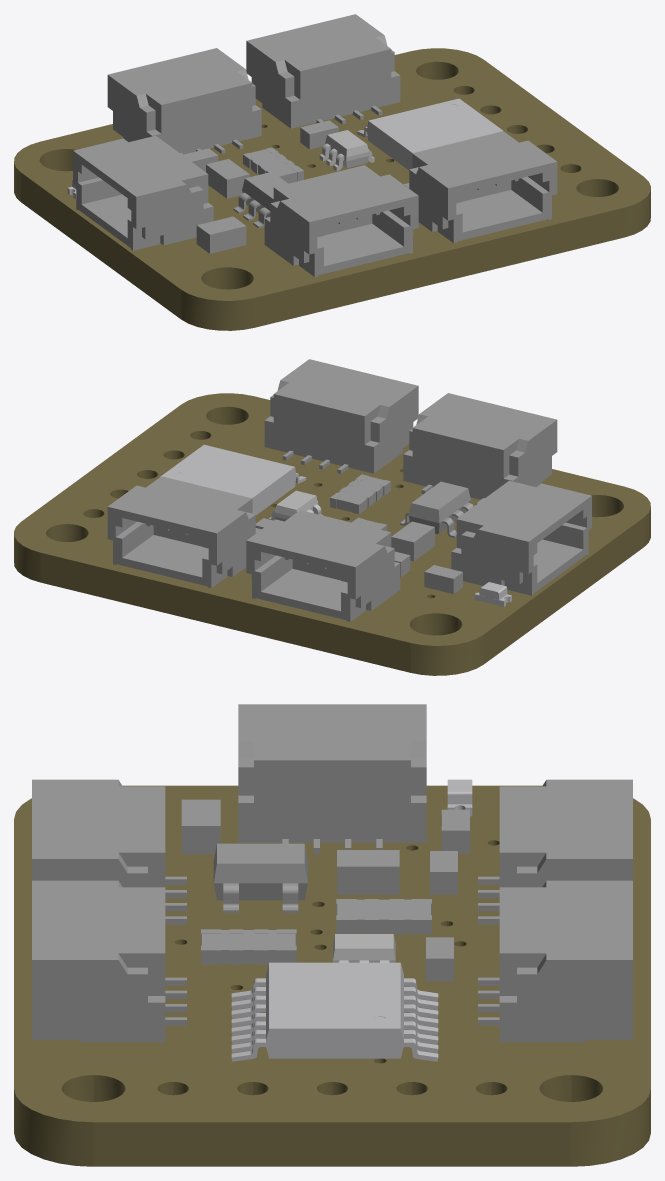
The model's file is ada-5664.glb.
3 renders of one model, top to bottom at view 1: azimuth 30°, elevation 25°; view 2: azimuth 150°, elevation 25°; view 3: azimuth 270°, elevation 25°, orthographic. The views are drawn at different scales.
Visible parts, largest first — view 1: 0.3333333333333333_0.3333333333333333_0.3333333333333333_0, 0.16666666666666666_0.16666666666666666_0.08333333333333333_, 0.5833333333333334_0.5833333333333334_0.5833333333333334_0.8, 0.5_0.5_0.5_0.85; view 2: 0.3333333333333333_0.3333333333333333_0.3333333333333333_0, 0.16666666666666666_0.16666666666666666_0.08333333333333333_, 0.5833333333333334_0.5833333333333334_0.5833333333333334_0.8, 0.5_0.5_0.5_0.85; view 3: 0.3333333333333333_0.3333333333333333_0.3333333333333333_0, 0.16666666666666666_0.16666666666666666_0.08333333333333333_, 0.5833333333333334_0.5833333333333334_0.5833333333333334_0.8, 0.5_0.5_0.5_0.85.
Part boxes in pixels (x1,y1,x2,y2): 0.3333333333333333_0.3333333333333333_0.3333333333333333_0: (73,14,557,276); 0.16666666666666666_0.16666666666666666_0.08333333333333333_: (14,48,650,330); 0.5833333333333334_0.5833333333333334_0.5833333333333334_0.8: (67,98,502,199); 0.5_0.5_0.5_0.85: (319,130,374,171); 0.3333333333333333_0.3333333333333333_0.3333333333333333_0: (107,359,591,621); 0.16666666666666666_0.16666666666666666_0.08333333333333333_: (14,393,650,675); 0.5833333333333334_0.5833333333333334_0.5833333333333334_0.8: (160,444,511,606); 0.5_0.5_0.5_0.85: (269,490,323,521); 0.3333333333333333_0.3333333333333333_0.3333333333333333_0: (32,704,632,1042); 0.16666666666666666_0.16666666666666666_0.08333333333333333_: (14,785,650,1166); 0.5833333333333334_0.5833333333333334_0.5833333333333334_0.8: (231,779,472,1061); 0.5_0.5_0.5_0.85: (333,934,395,962).
Size of the model in its own units: 2.54 by 0.4529 by 2.03.
